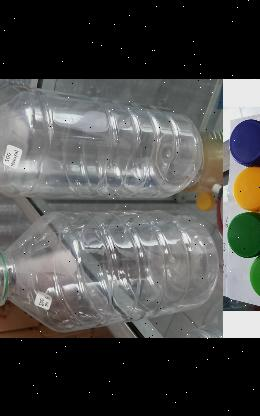Plastic Bottle: (0, 209, 220, 332), (0, 86, 210, 199)
